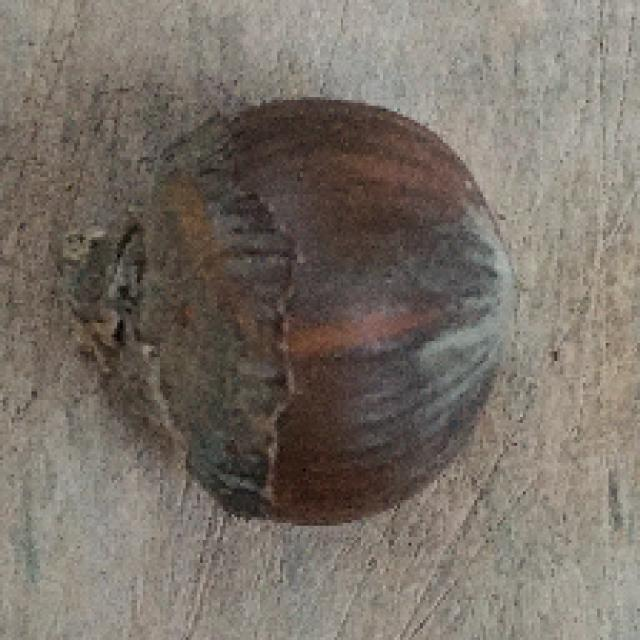damagedHazelnut: (59, 99, 521, 522)
